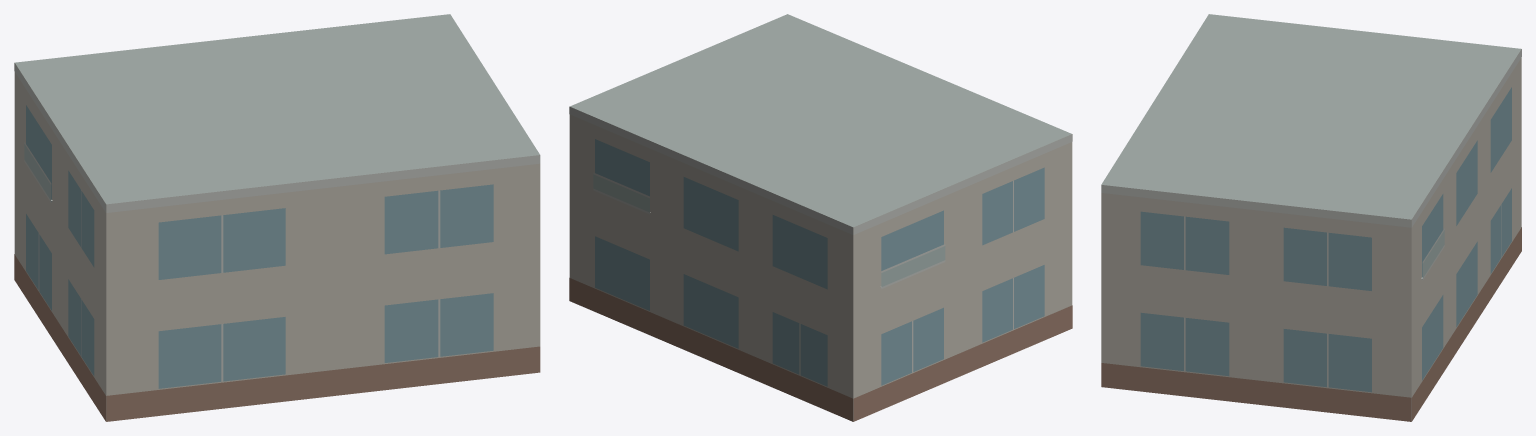
File: survey-upis-32753237.glb
3 renders of one model, left to right at view 1: azimuth 30°, elevation 25°; view 2: azimuth 150°, elevation 25°; view 3: azimuth 270°, elevation 25°, orthographic. The views are drawn at different scales.
Parts seen in each view (by area): view 1: survey-upis-32753237.tmp; view 2: survey-upis-32753237.tmp; view 3: survey-upis-32753237.tmp.
Part boxes in pixels (x1=…): survey-upis-32753237.tmp: x1=14, y1=14, x2=540, y2=421; survey-upis-32753237.tmp: x1=569, y1=14, x2=1072, y2=421; survey-upis-32753237.tmp: x1=1101, y1=14, x2=1521, y2=421.
Bounding box in the file's own units: 13.31 × 6.1 × 11.51.
